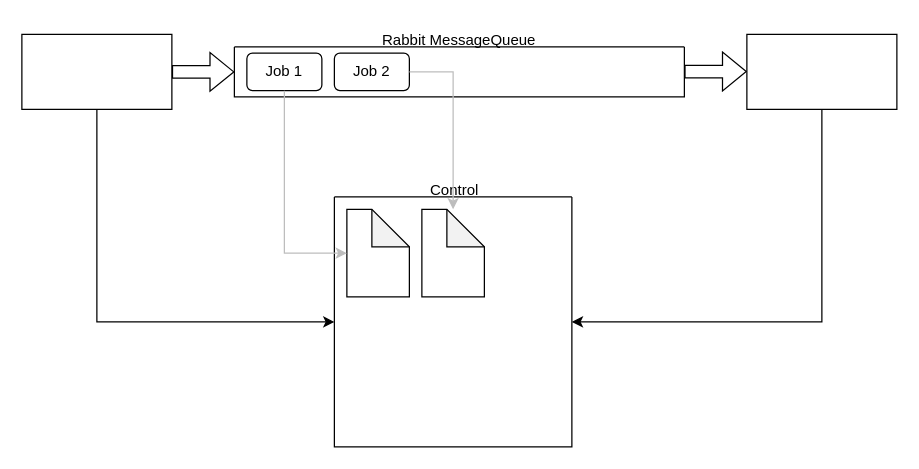
The diagram is 919 pixels wide and 469 high, and some of its shapes have lost their labels. Here are the shapes that lost their labels. From the top down, the centre of each, then its label:
At (x=96, y=71): "SpringBoot".
At (x=821, y=71): "Worker".
